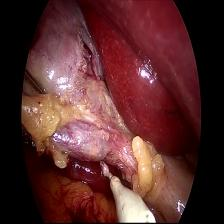Grasper: (22, 69, 47, 105)
Hook: (99, 160, 157, 224)
